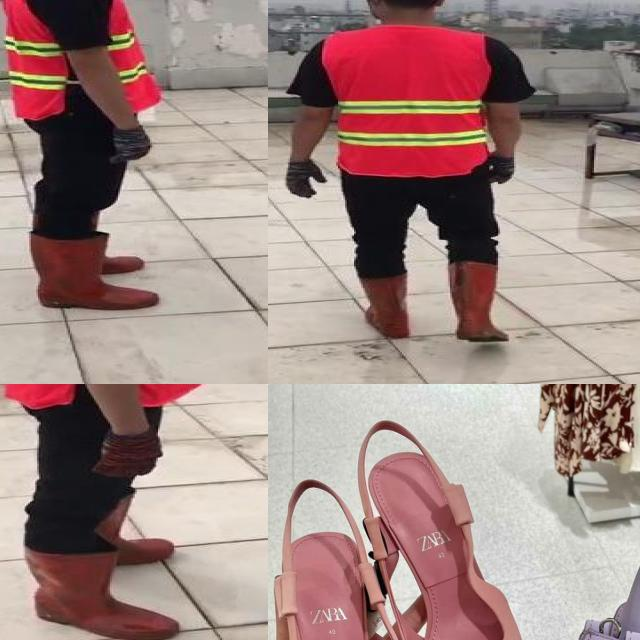Sandals: (273, 405, 549, 640)
boots: (23, 548, 179, 640), (26, 234, 160, 317), (441, 257, 521, 342), (101, 492, 176, 566), (356, 272, 411, 338)
hand_glove: (90, 432, 163, 478), (111, 126, 157, 165), (286, 158, 328, 199), (487, 152, 514, 186)
person: (275, 0, 540, 350), (0, 384, 254, 640), (0, 0, 181, 316)
vest: (322, 27, 487, 175), (2, 0, 162, 119)
